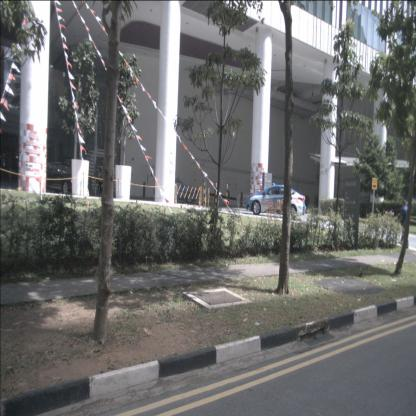human-pedestrian-adult: (398, 199, 410, 248), (96, 167, 104, 197)
vehicle-car: (245, 185, 306, 219), (39, 162, 85, 195), (159, 179, 198, 204)
